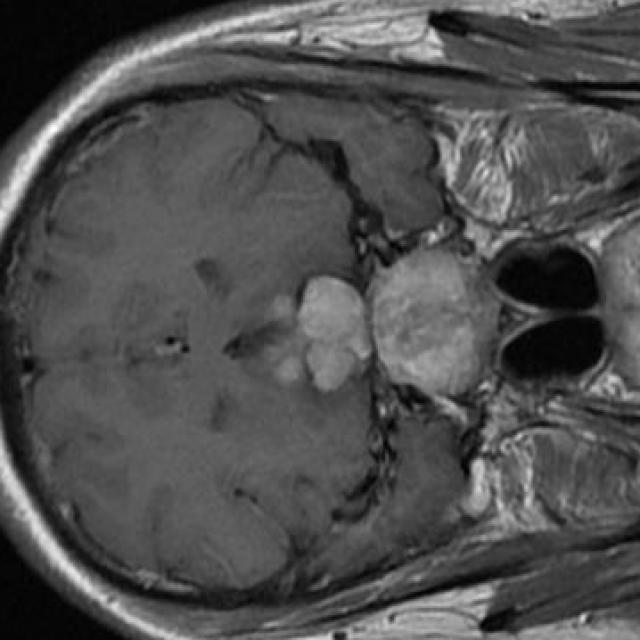pituitary: (269, 250, 485, 394)
